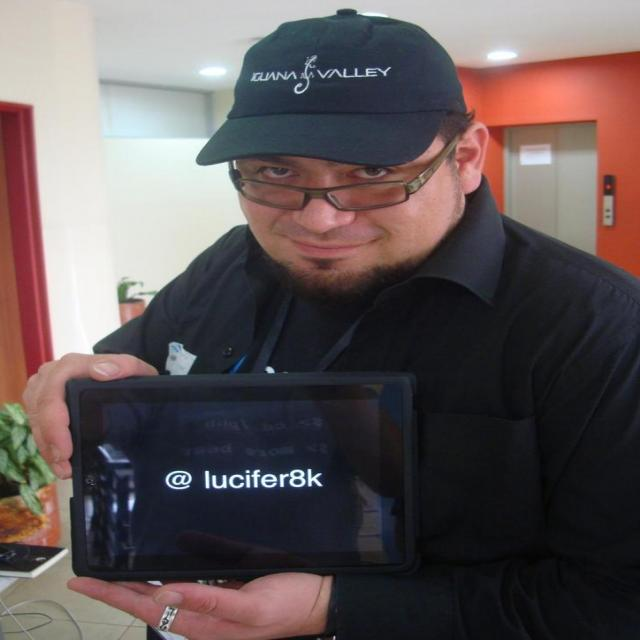Glasses: (212, 148, 460, 204)
